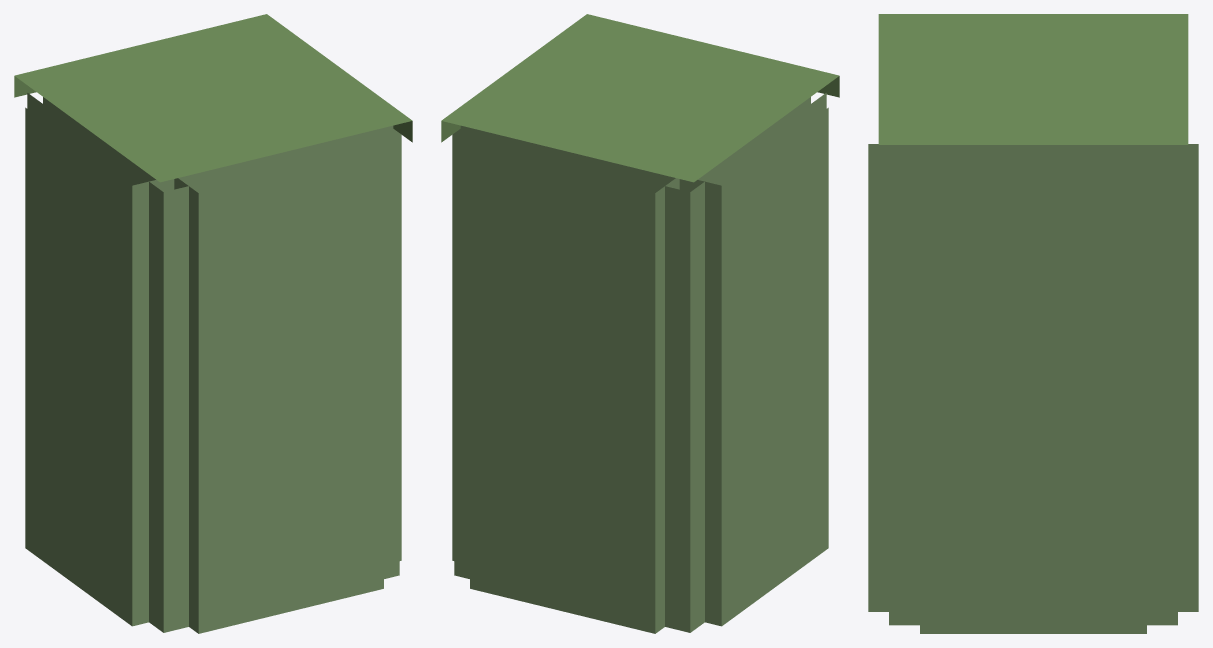
The model's file is compost_bin.glb.
3 renders of one model, left to right at view 1: azimuth 30°, elevation 25°; view 2: azimuth 150°, elevation 25°; view 3: azimuth 270°, elevation 25°, orthographic. The views are drawn at different scales.
Bounding box in the file's own units: 0.64 × 1.03 × 0.64.
